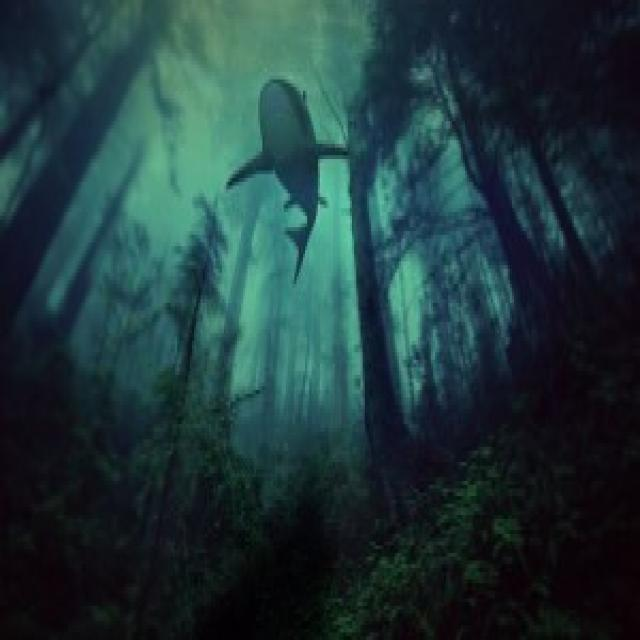Shark: (216, 54, 361, 291)
